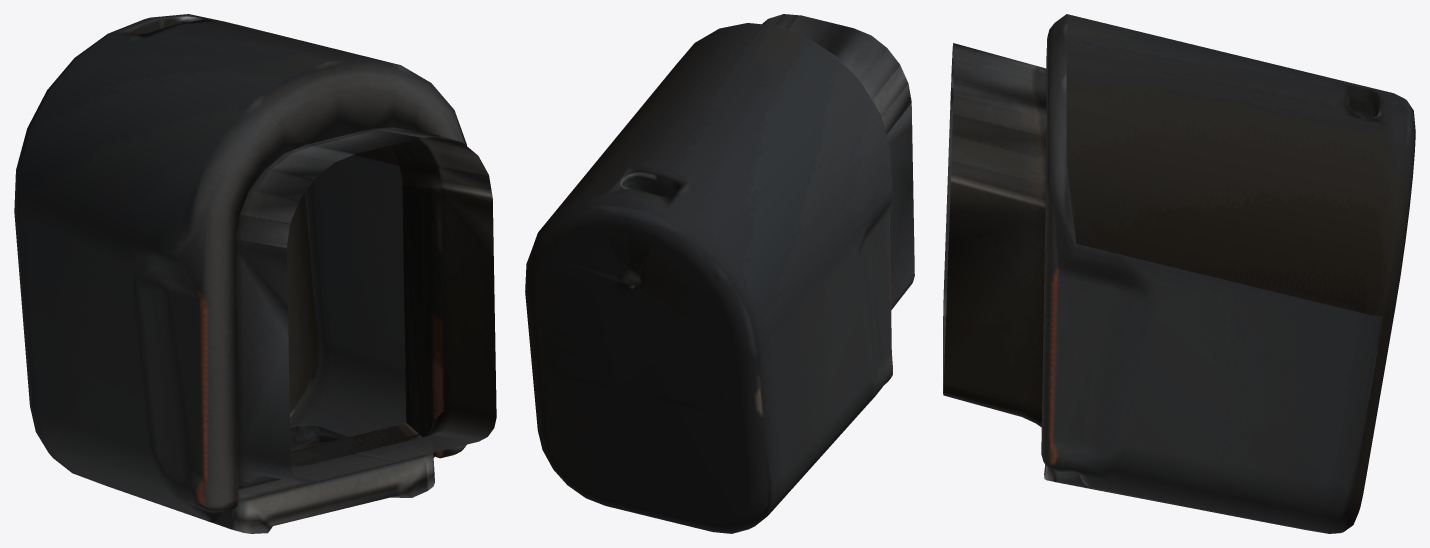
The model's file is Mag45ExtSm.fbx.
3 renders of one model, left to right at view 1: azimuth 30°, elevation 25°; view 2: azimuth 150°, elevation 25°; view 3: azimuth 270°, elevation 25°, orthographic. The views are drawn at different scales.
Visible parts, largest first — view 1: Mag45ExtSm; view 2: Mag45ExtSm; view 3: Mag45ExtSm.
Boxes of the visible parts, x1,y1,x2,y2 form: Mag45ExtSm: [14, 14, 496, 533]; Mag45ExtSm: [525, 14, 914, 533]; Mag45ExtSm: [943, 14, 1415, 533].
Size of the model in its own units: 0.0274 by 0.045 by 0.0411.
